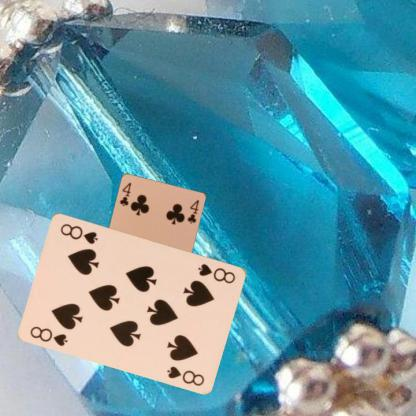4c: (118, 180, 132, 208)
8s: (195, 260, 237, 285), (28, 323, 69, 347)
